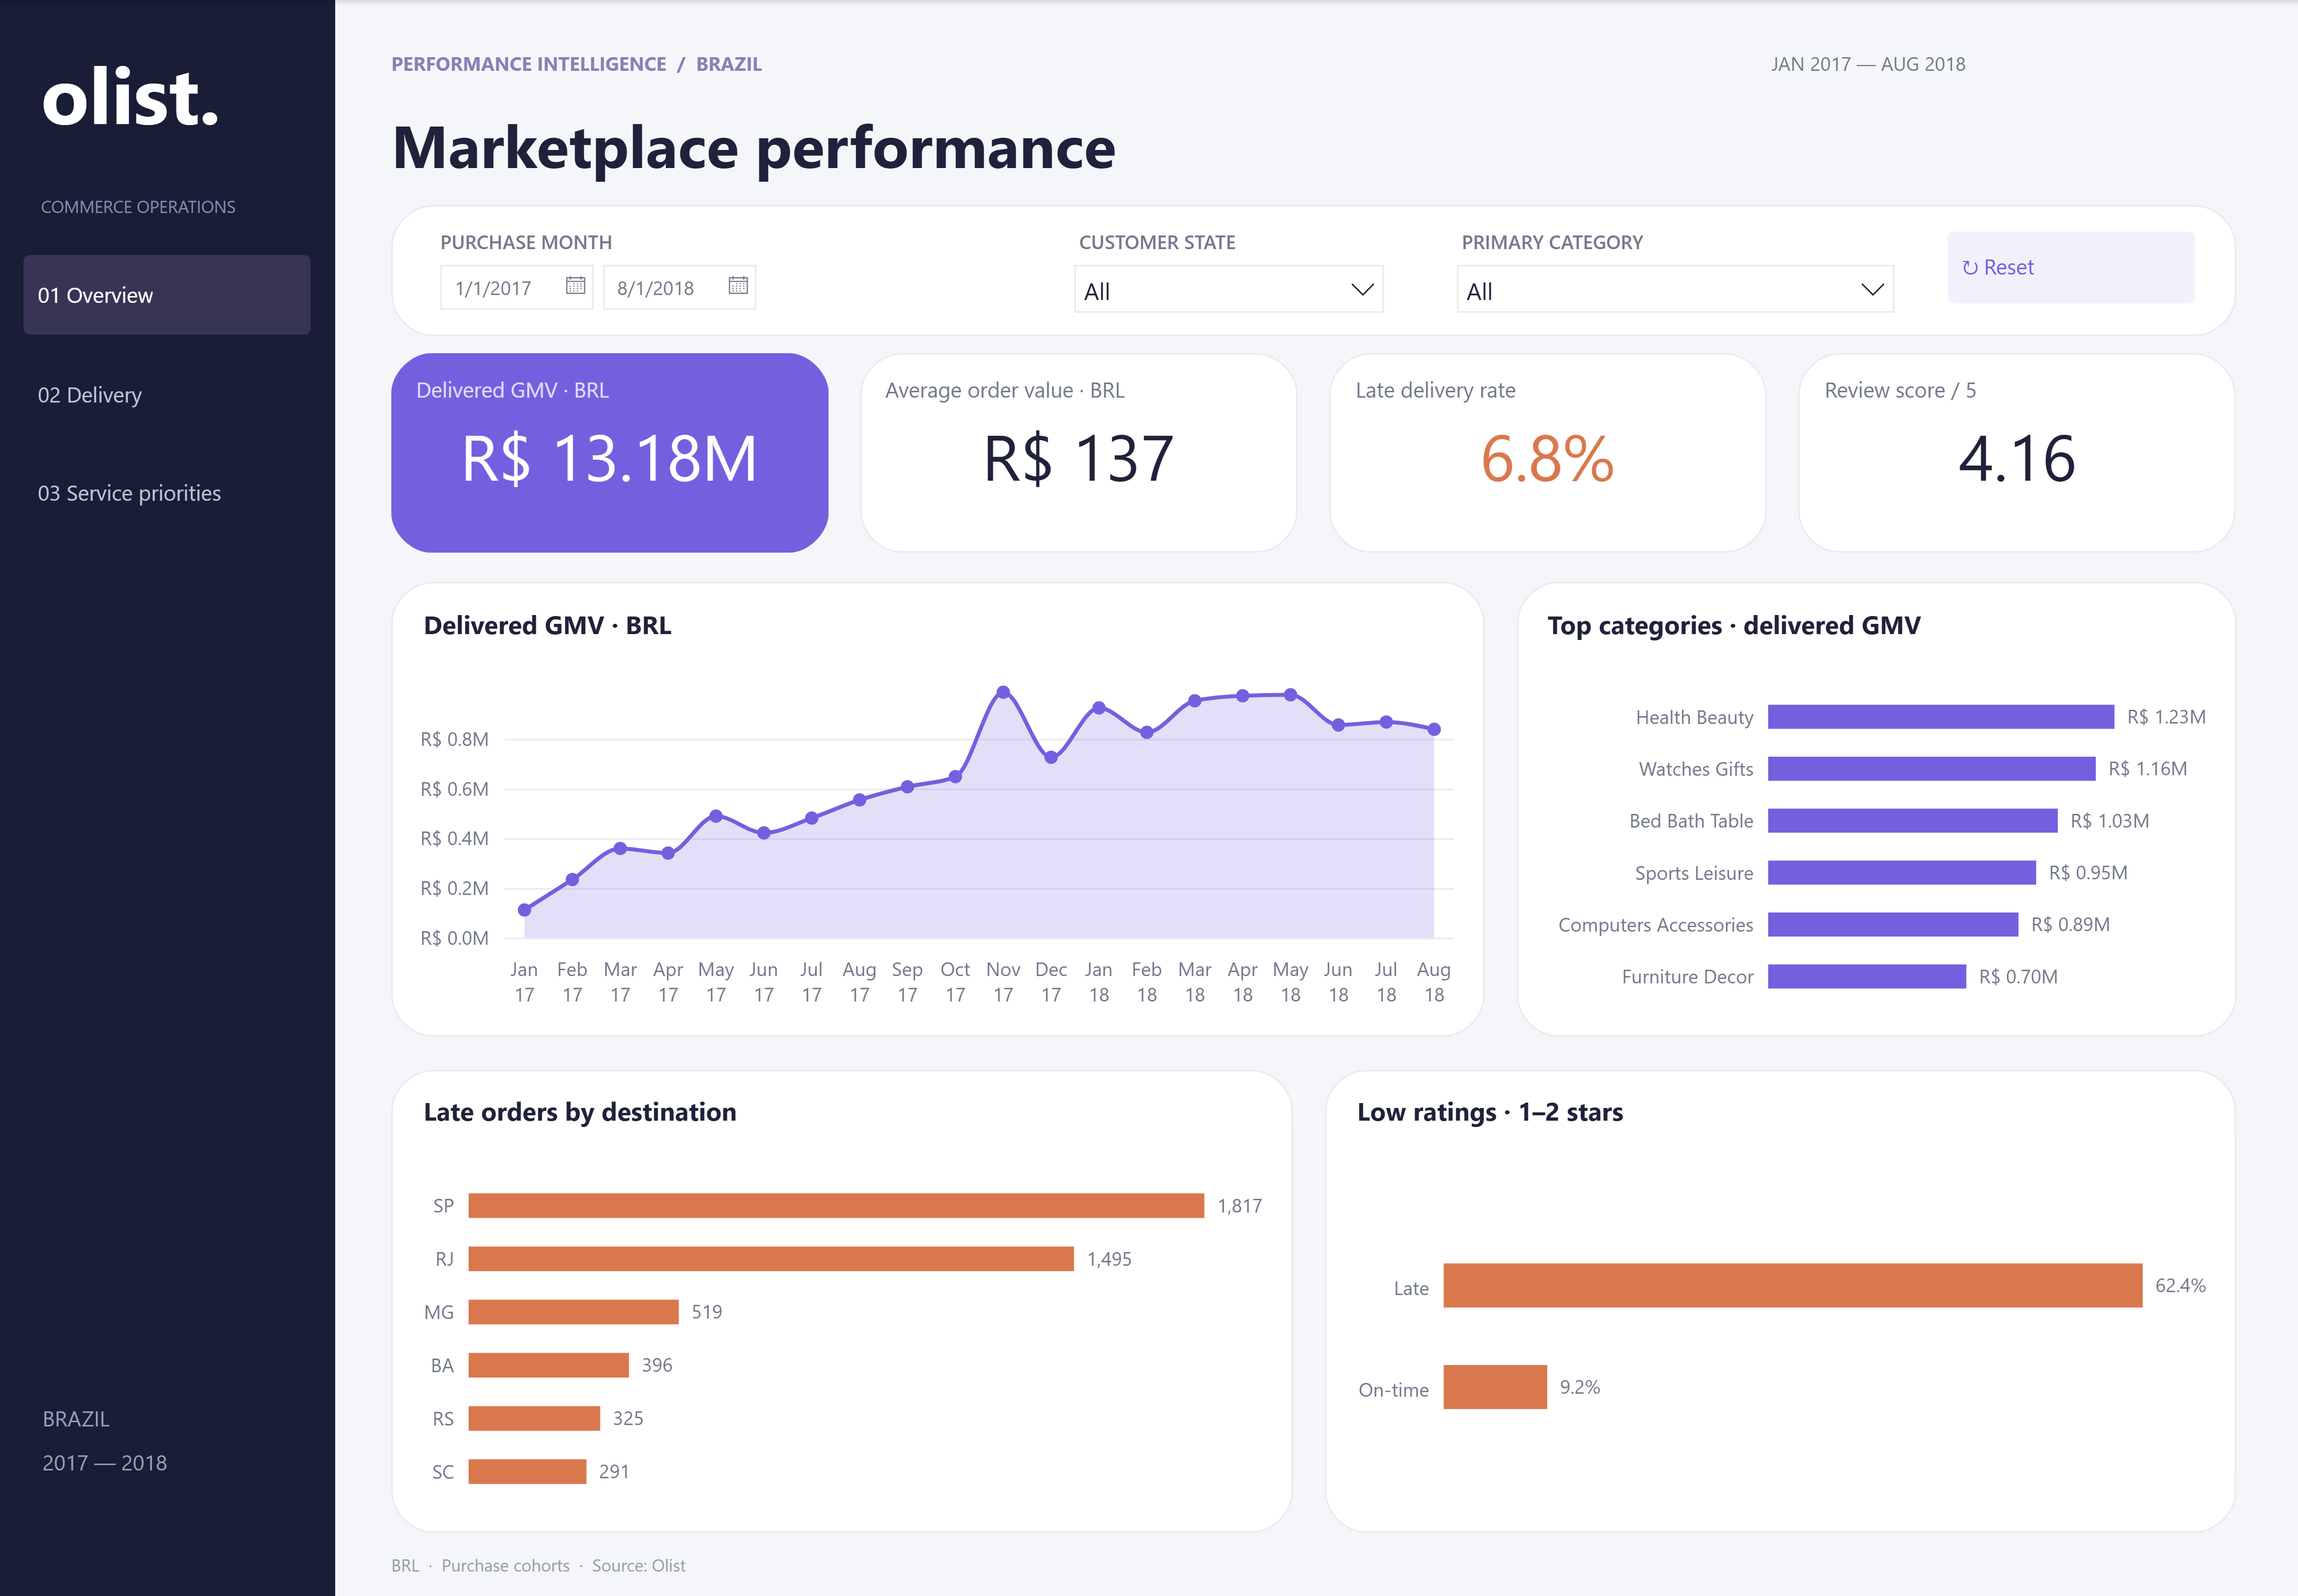

This screenshot's page, from the dashboard's own definition file:
{"tool":"powerbi","page":{"name":"Marketplace overview","canvas":[1440,1000],"ordinal":0},"visuals":[{"type":"shape","box":[0,0,210,1000],"z":1},{"type":"shape","box":[245,129,1156,82],"z":15},{"type":"shape","box":[245,221,274,125],"z":23},{"type":"shape","box":[539,221,274,125],"z":27},{"type":"shape","box":[833,221,274,125],"z":31},{"type":"shape","box":[1127,221,274,125],"z":35},{"type":"shape","box":[245,365,685,285],"z":39},{"type":"shape","box":[950,365,451,285],"z":42},{"type":"shape","box":[245,670,565,290],"z":45},{"type":"shape","box":[830,670,571,290],"z":48},{"type":"textbox","box":[26,25,170,70],"z":1002},{"type":"textbox","box":[26,119,170,24],"z":1003},{"type":"actionButton","box":[15,160,180,50],"z":1004},{"type":"actionButton","box":[15,222,180,50],"z":1005},{"type":"actionButton","box":[15,284,180,50],"z":1006},{"type":"textbox","box":[245,30,850,24],"z":1011},{"type":"textbox","box":[1110,30,305,24],"z":1012},{"type":"textbox","box":[245,65,1150,50],"z":1013},{"type":"slicer","fields":{"Values":["Months.MonthStart"]},"box":[260,135,380,70],"z":1016},{"type":"slicer","fields":{"Values":["States.State"]},"box":[660,135,220,76],"z":1017},{"type":"slicer","fields":{"Values":["Categories.Category"]},"box":[900,135,300,76],"z":1018},{"type":"actionButton","box":[1220,145,155,45],"z":1019},{"type":"textbox","box":[245,971,1160,22],"z":1020},{"type":"textbox","box":[27,880,160,25],"z":1021},{"type":"textbox","box":[27,907,160,25],"z":1022},{"type":"textbox","box":[261,235,244,24],"z":1024},{"type":"card","fields":{"Values":["Orders.GMV Headline"]},"box":[259,261,246,49],"z":1025},{"type":"textbox","box":[555,235,244,24],"z":1028},{"type":"card","fields":{"Values":["Orders.AOV"]},"box":[553,261,246,49],"z":1029},{"type":"textbox","box":[849,235,244,24],"z":1032},{"type":"card","fields":{"Values":["Orders.Late Rate"]},"box":[847,261,246,49],"z":1033},{"type":"textbox","box":[1143,235,244,24],"z":1036},{"type":"card","fields":{"Values":["Orders.Average Review"]},"box":[1141,261,246,49],"z":1037},{"type":"textbox","box":[265,380,645,28],"z":1040},{"type":"areaChart","fields":{"Category":["Months.Month"],"Y":["Orders.Delivered GMV"]},"box":[263,421,649,213],"z":1041},{"type":"textbox","box":[970,380,411,28],"z":1043},{"type":"barChart","fields":{"Category":["Categories.Category"],"Y":["Orders.Top Category GMV"]},"box":[968,421,415,213],"z":1044},{"type":"textbox","box":[265,685,525,28],"z":1046},{"type":"barChart","fields":{"Category":["States.State"],"Y":["Orders.Top State Late Orders"]},"box":[263,726,529,218],"z":1047},{"type":"textbox","box":[850,685,531,28],"z":1049},{"type":"barChart","fields":{"Category":["Orders.DeliveryOutcome"],"Y":["Orders.Low Rating Rate"]},"box":[848,726,535,218],"z":1050}]}

Visuals, with their boxes on the page's 1440x1000 design canvas (x1, y1, x2, y2). These are canvas units, not pixel positions in the 2298x1596 screenshot, which may show the page scaled, cropped or inside an application window:
shape: (x1=0, y1=0, x2=210, y2=1000)
shape: (x1=245, y1=129, x2=1401, y2=211)
shape: (x1=245, y1=221, x2=519, y2=346)
shape: (x1=539, y1=221, x2=813, y2=346)
shape: (x1=833, y1=221, x2=1107, y2=346)
shape: (x1=1127, y1=221, x2=1401, y2=346)
shape: (x1=245, y1=365, x2=930, y2=650)
shape: (x1=950, y1=365, x2=1401, y2=650)
shape: (x1=245, y1=670, x2=810, y2=960)
shape: (x1=830, y1=670, x2=1401, y2=960)
textbox: (x1=26, y1=25, x2=196, y2=95)
textbox: (x1=26, y1=119, x2=196, y2=143)
actionButton: (x1=15, y1=160, x2=195, y2=210)
actionButton: (x1=15, y1=222, x2=195, y2=272)
actionButton: (x1=15, y1=284, x2=195, y2=334)
textbox: (x1=245, y1=30, x2=1095, y2=54)
textbox: (x1=1110, y1=30, x2=1415, y2=54)
textbox: (x1=245, y1=65, x2=1395, y2=115)
slicer - Months.MonthStart: (x1=260, y1=135, x2=640, y2=205)
slicer - States.State: (x1=660, y1=135, x2=880, y2=211)
slicer - Categories.Category: (x1=900, y1=135, x2=1200, y2=211)
actionButton: (x1=1220, y1=145, x2=1375, y2=190)
textbox: (x1=245, y1=971, x2=1405, y2=993)
textbox: (x1=27, y1=880, x2=187, y2=905)
textbox: (x1=27, y1=907, x2=187, y2=932)
textbox: (x1=261, y1=235, x2=505, y2=259)
card - Orders.GMV Headline: (x1=259, y1=261, x2=505, y2=310)
textbox: (x1=555, y1=235, x2=799, y2=259)
card - Orders.AOV: (x1=553, y1=261, x2=799, y2=310)
textbox: (x1=849, y1=235, x2=1093, y2=259)
card - Orders.Late Rate: (x1=847, y1=261, x2=1093, y2=310)
textbox: (x1=1143, y1=235, x2=1387, y2=259)
card - Orders.Average Review: (x1=1141, y1=261, x2=1387, y2=310)
textbox: (x1=265, y1=380, x2=910, y2=408)
areaChart - Months.Month x Orders.Delivered GMV: (x1=263, y1=421, x2=912, y2=634)
textbox: (x1=970, y1=380, x2=1381, y2=408)
barChart - Categories.Category x Orders.Top Category GMV: (x1=968, y1=421, x2=1383, y2=634)
textbox: (x1=265, y1=685, x2=790, y2=713)
barChart - States.State x Orders.Top State Late Orders: (x1=263, y1=726, x2=792, y2=944)
textbox: (x1=850, y1=685, x2=1381, y2=713)
barChart - Orders.DeliveryOutcome x Orders.Low Rating Rate: (x1=848, y1=726, x2=1383, y2=944)
